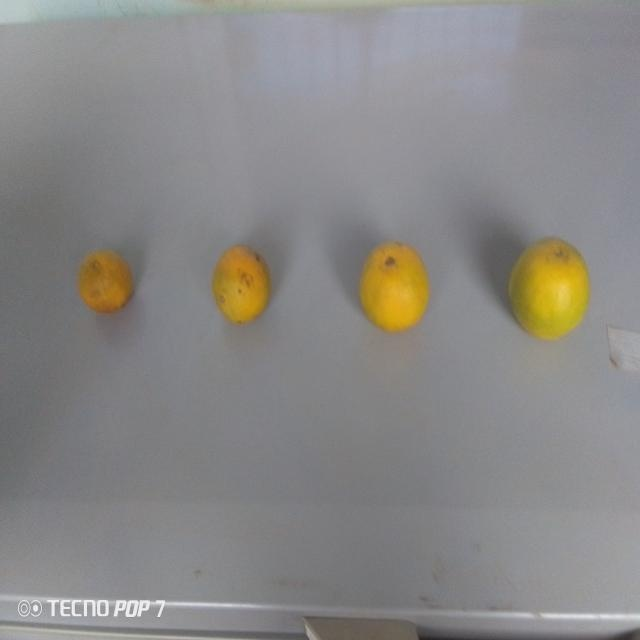agrume: (500, 226, 595, 341), (351, 234, 427, 337), (209, 241, 275, 332), (76, 246, 137, 319)
